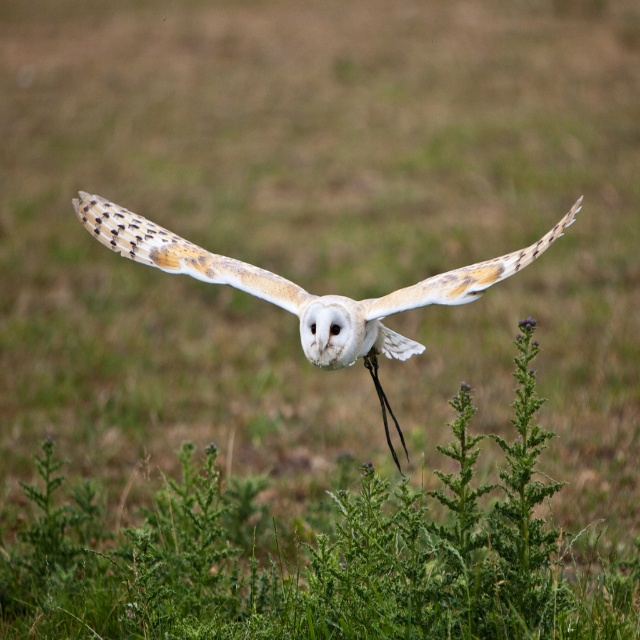Owl: (70, 184, 584, 368)
